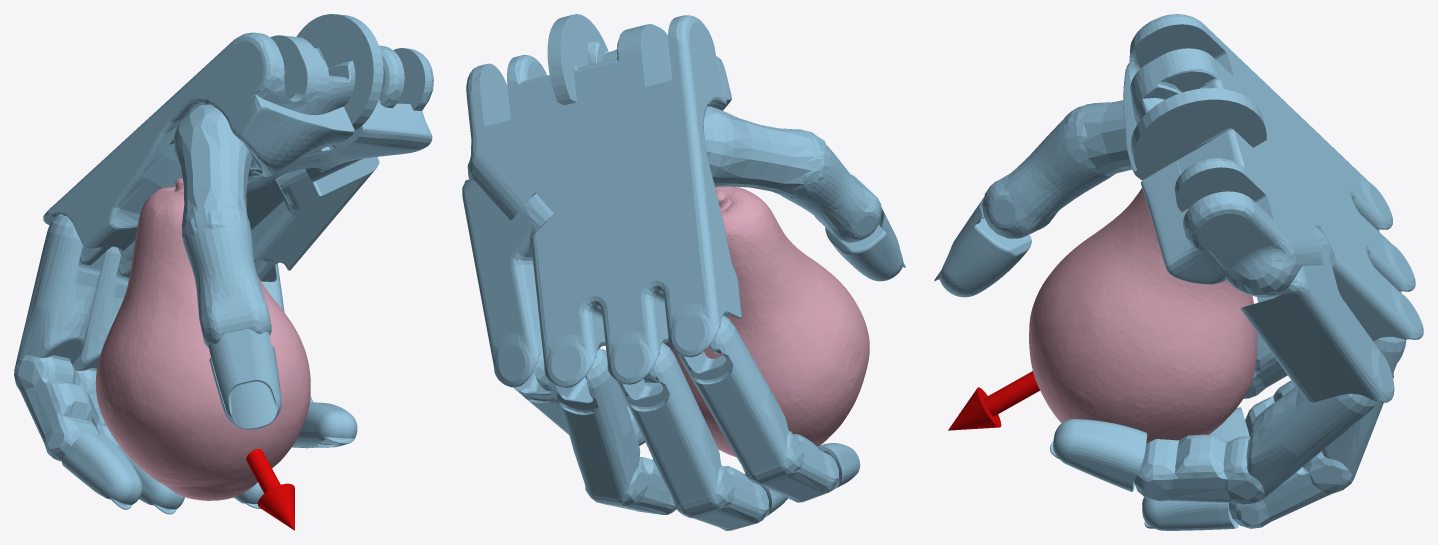
3 views of the same model, side by side, from view 1: azimuth 30°, elevation 25°; view 2: azimuth 150°, elevation 25°; view 3: azimuth 270°, elevation 25° (orthographic). The views are drawn at different scales.
Visible parts, largest first — view 1: world, pear.stl; view 2: world, pear.stl; view 3: world, pear.stl.
Part boxes in pixels (x1,y1,x2,y2): world: [14, 14, 433, 530]; pear.stl: [95, 177, 310, 500]; world: [462, 14, 905, 530]; pear.stl: [664, 186, 869, 457]; world: [934, 14, 1423, 530]; pear.stl: [1029, 188, 1257, 443].
Size of the model in its own units: 0.1358 by 0.1631 by 0.1408.
